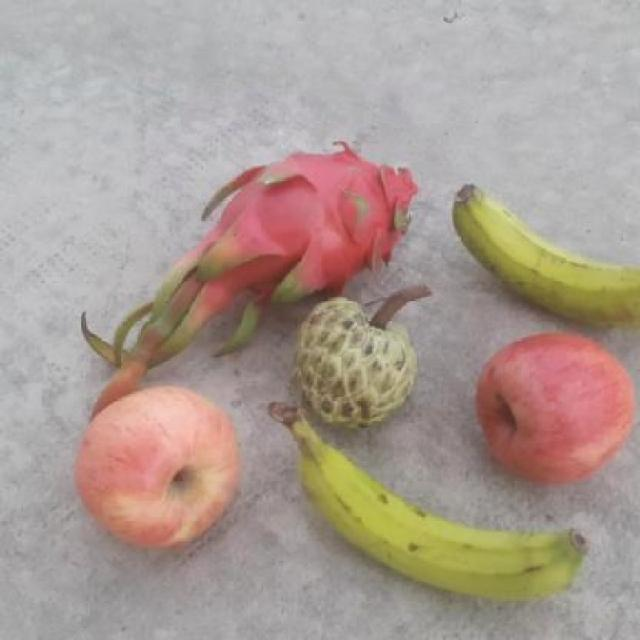apple: (73, 387, 242, 555), (473, 332, 639, 496)
banana: (267, 404, 595, 608), (446, 180, 640, 335)
dragon fruit: (188, 137, 422, 303)
sugar apple: (288, 286, 430, 426)
